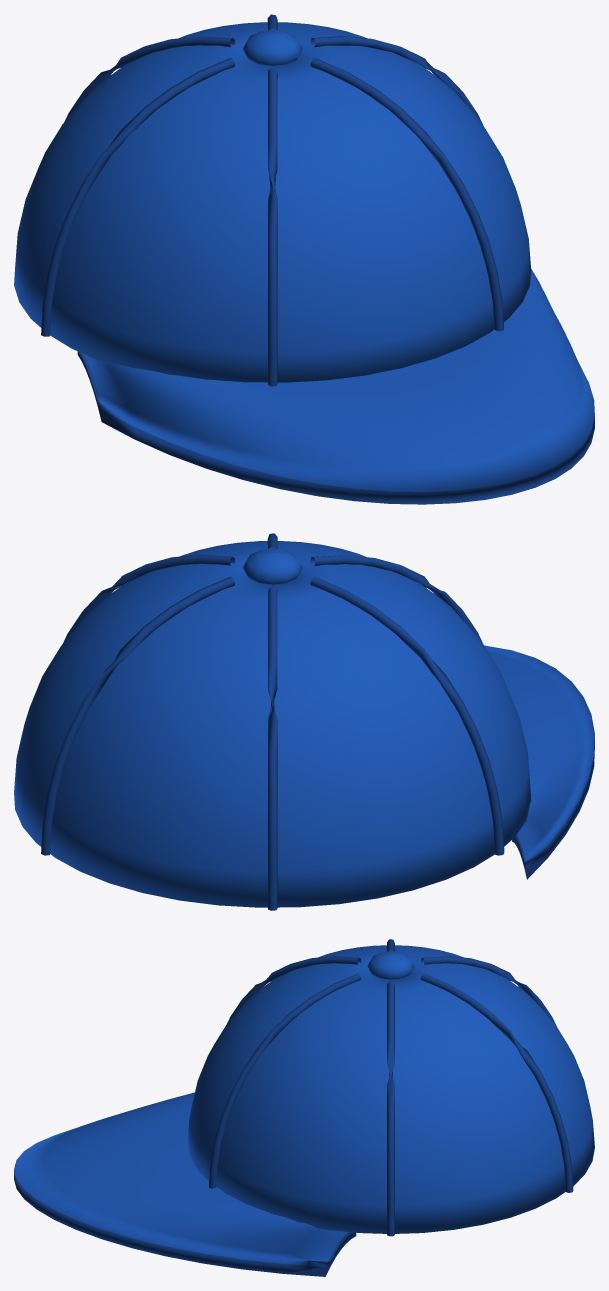
The model's file is hat_cap.glb.
3 views of the same model, one above another, from view 1: azimuth 30°, elevation 25°; view 2: azimuth 150°, elevation 25°; view 3: azimuth 270°, elevation 25° (orthographic). The views are drawn at different scales.
Parts seen in each view (by area): view 1: hat_cap_q; view 2: hat_cap_q; view 3: hat_cap_q.
Part boxes in pixels (box(x1,y1,x2,y2)): hat_cap_q: box(14, 14, 594, 504); hat_cap_q: box(14, 533, 594, 910); hat_cap_q: box(14, 939, 594, 1276).
Size of the model in its own units: 2.31 by 1.46 by 3.19.
